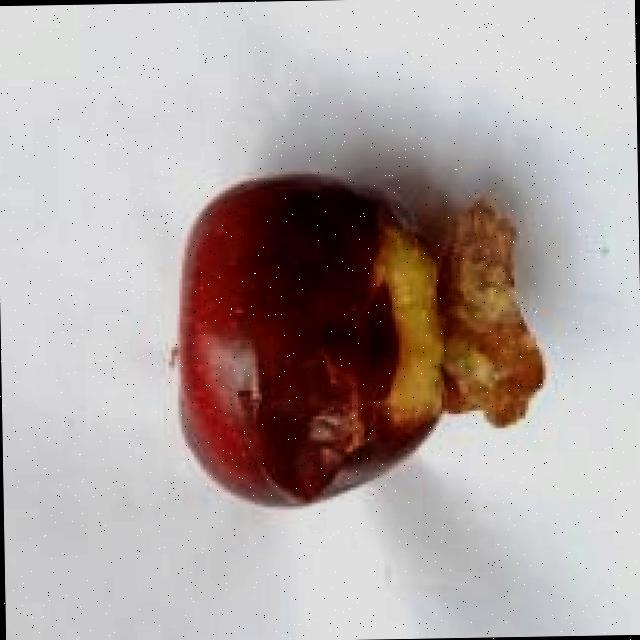rotten apple: (91, 114, 599, 562)
